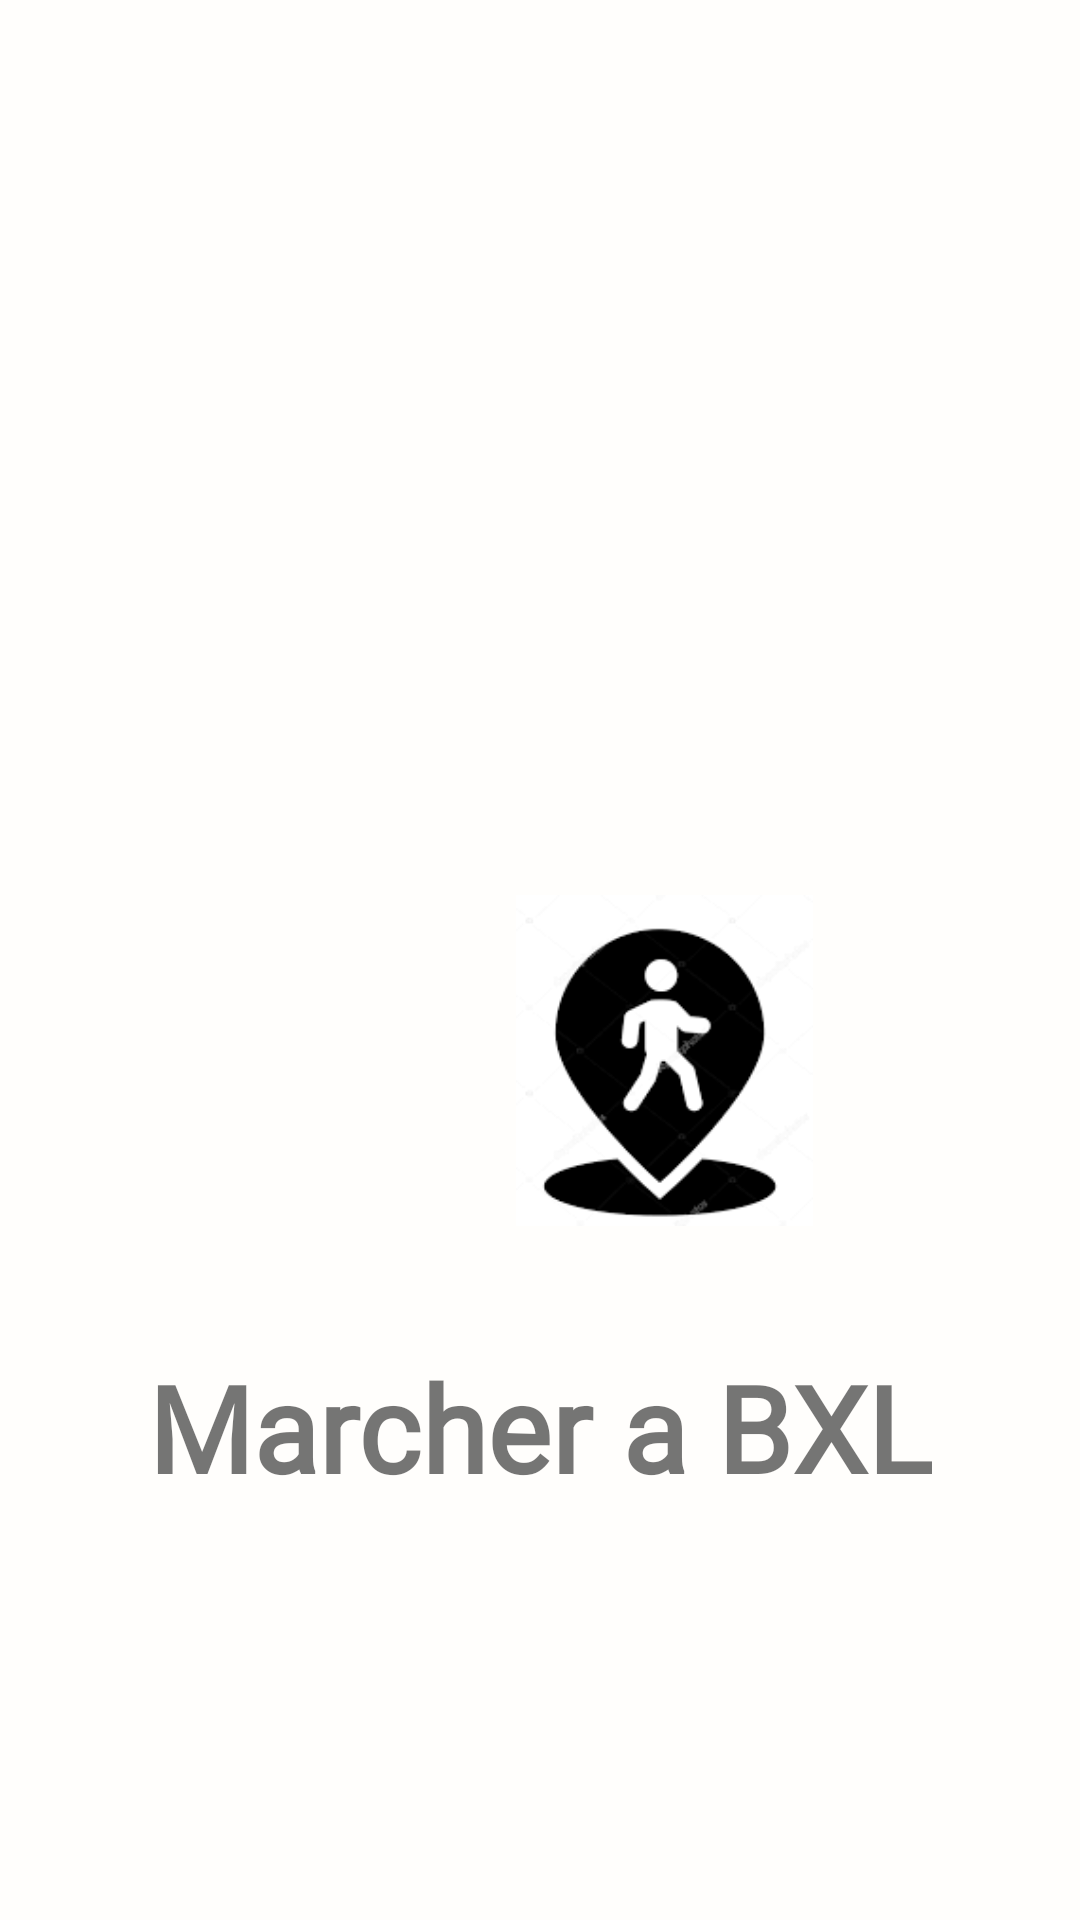

Named icons in this screenshot (1080px×1920px) and their centers, (x,y):
walkingmen: (660,1072)
